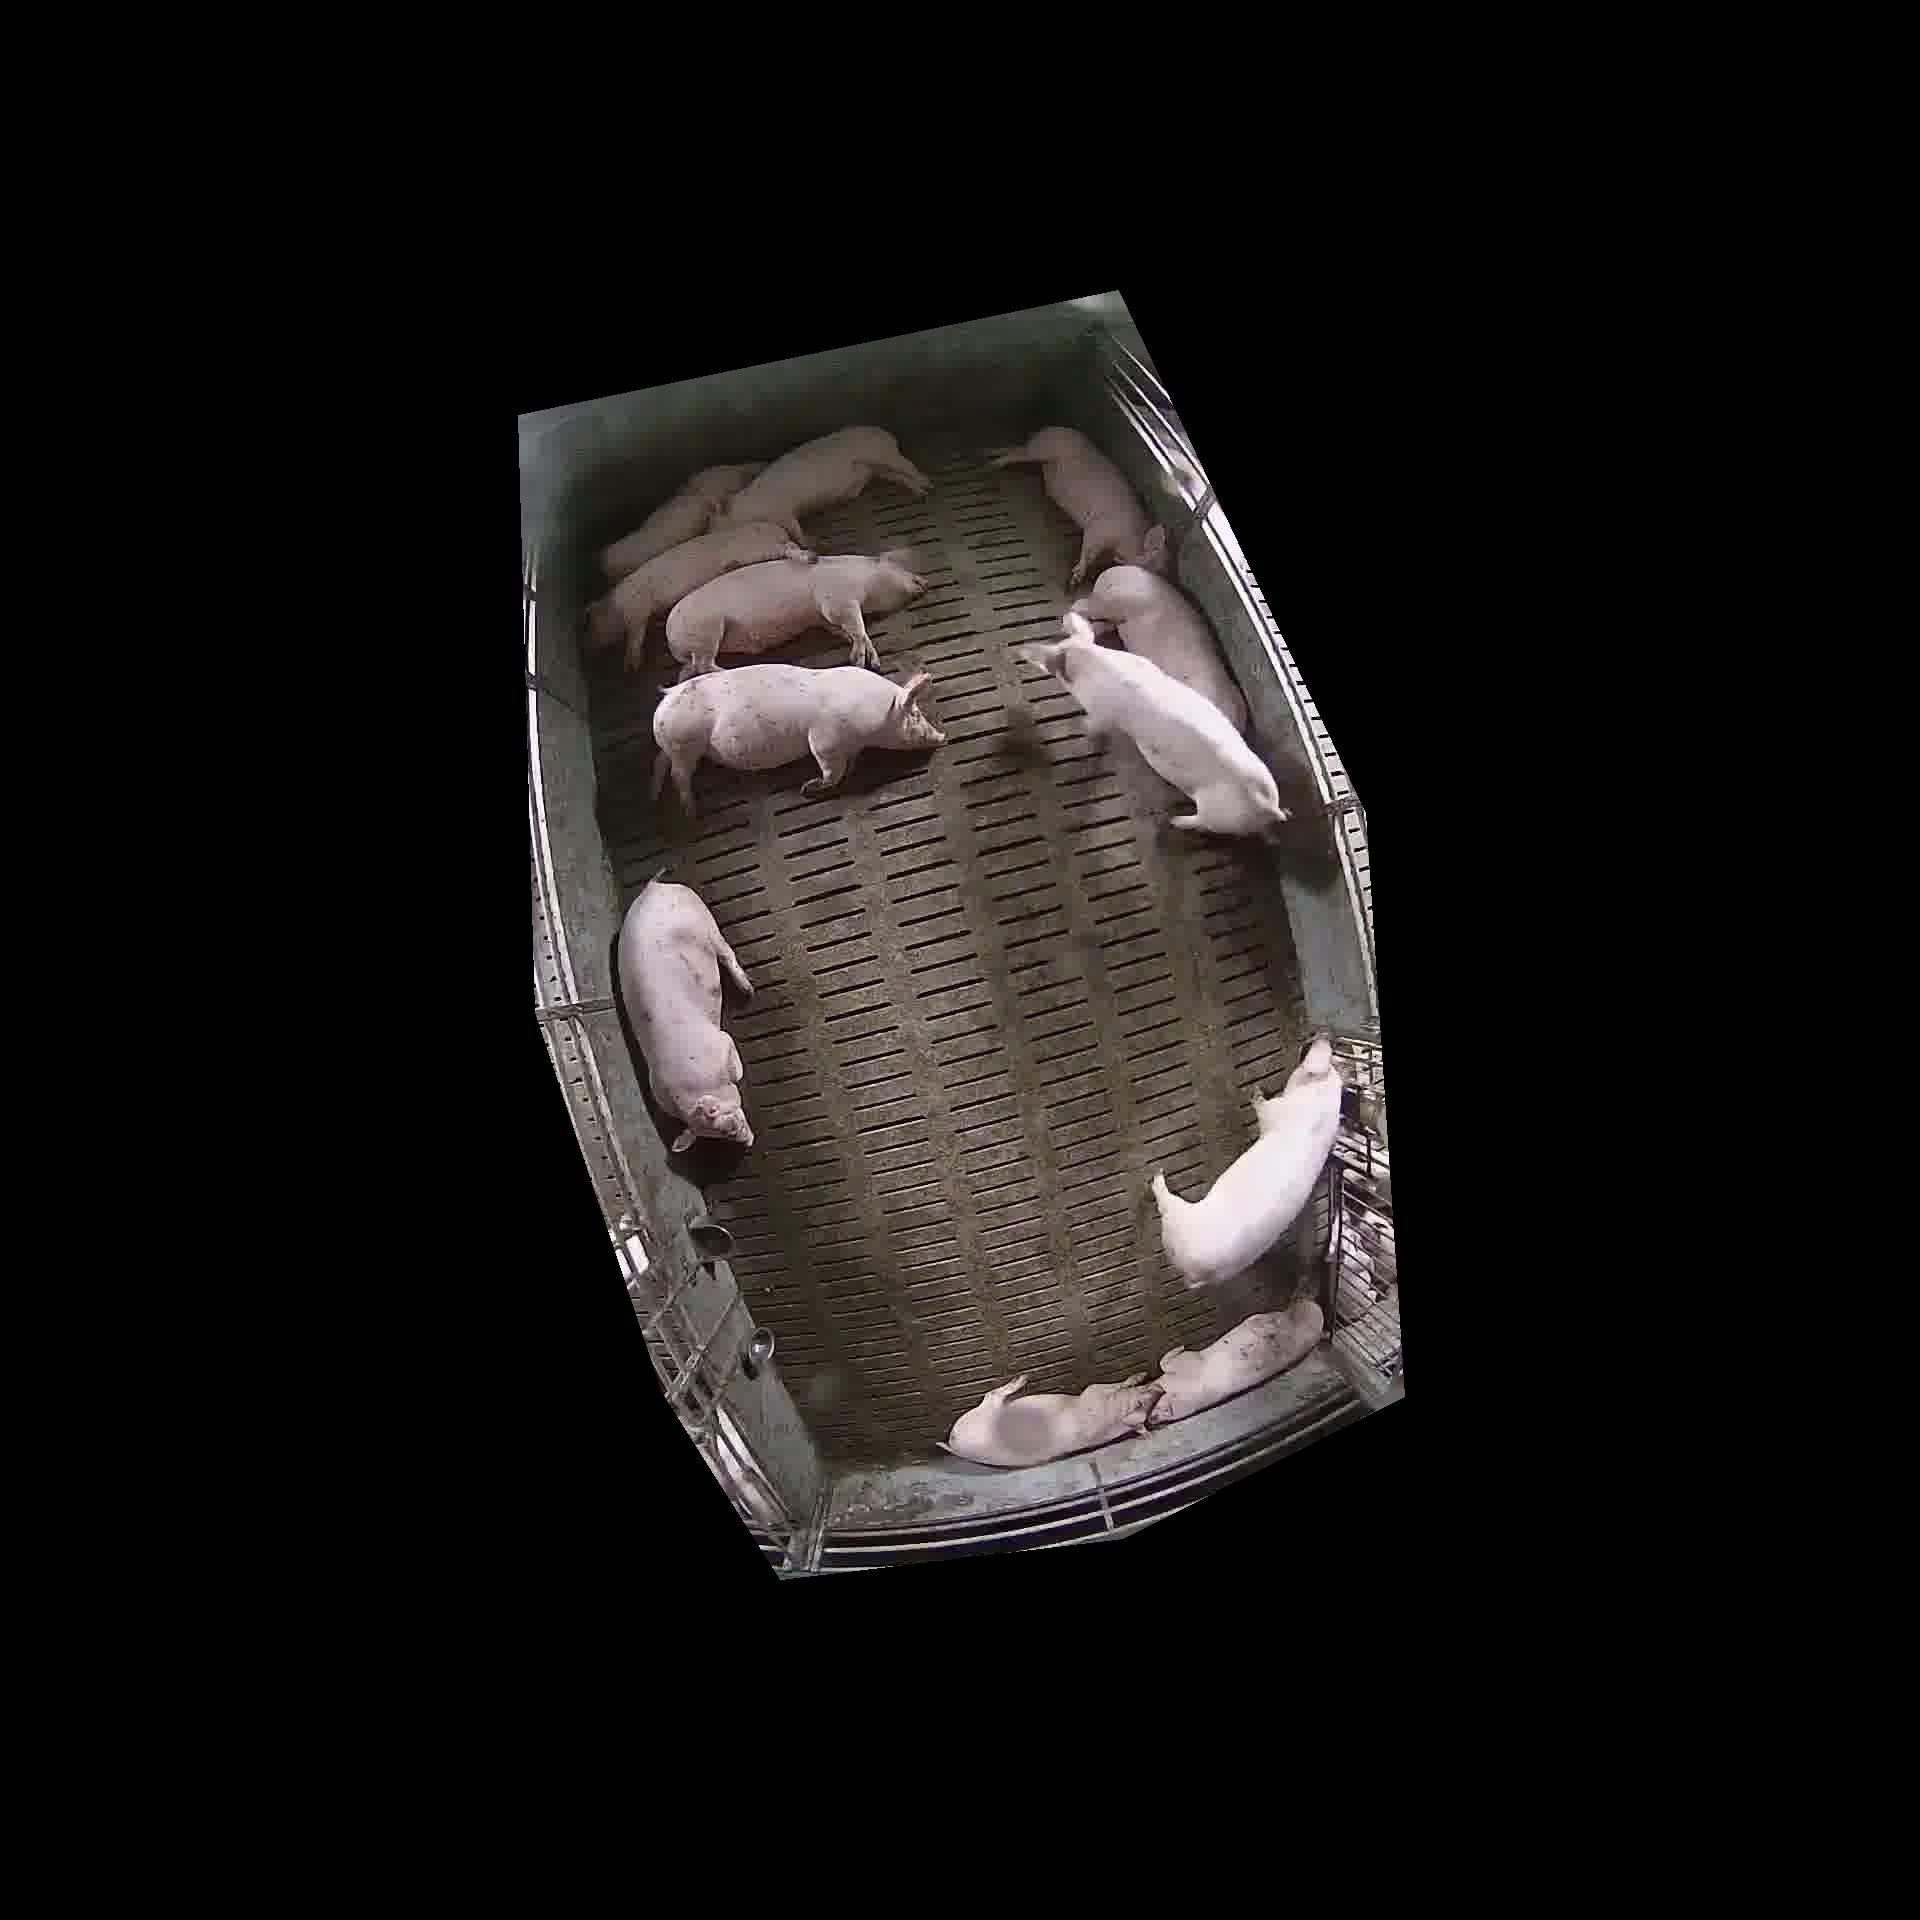pig: (1022, 614, 1284, 833), (1152, 1037, 1342, 1285), (652, 665, 944, 812), (617, 879, 753, 1150), (666, 550, 927, 679), (587, 522, 805, 668), (1064, 563, 1247, 731), (992, 425, 1167, 585), (716, 425, 930, 542), (1148, 1298, 1322, 1422), (948, 1375, 1160, 1466), (598, 462, 761, 580)
